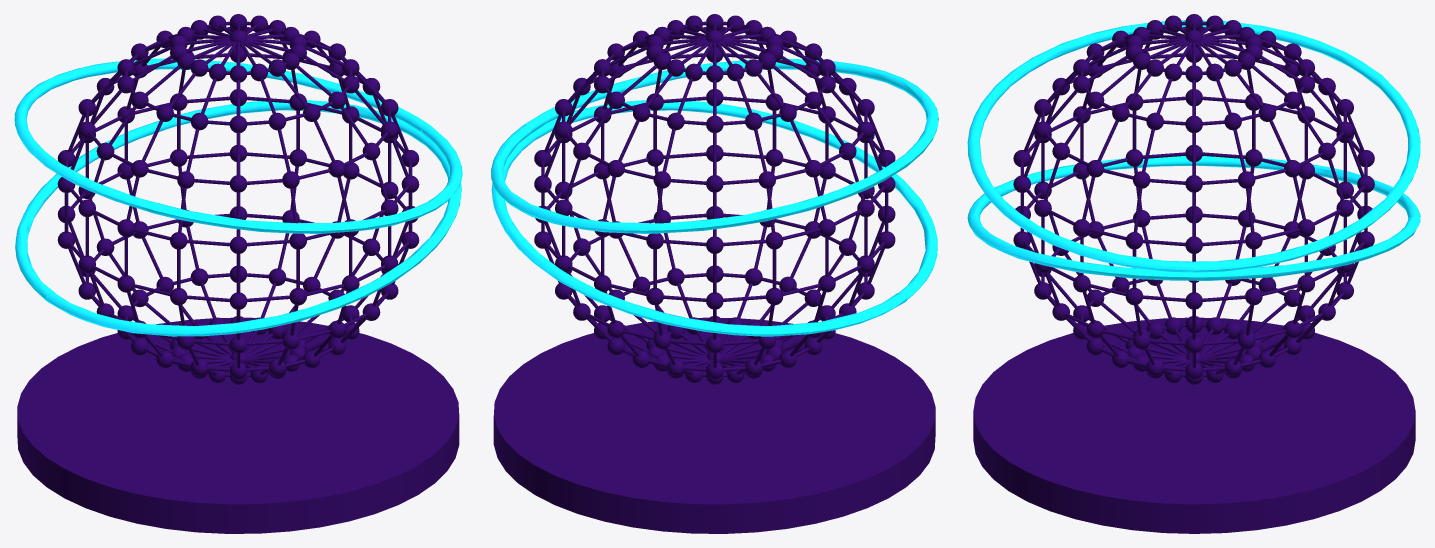
The model's file is 2-animated.glb.
The picture shows the model from 3 angles, left to right: view 1: azimuth 30°, elevation 25°; view 2: azimuth 150°, elevation 25°; view 3: azimuth 270°, elevation 25°; orthographic projection.
Visible parts, largest first — view 1: Cylinder002__0, Объект_Ноль.1, Null_1, Null_2; view 2: Cylinder002__0, Объект_Ноль.1, Null_1, Null_2; view 3: Cylinder002__0, Объект_Ноль.1, Null_2, Null_1.
Boxes of the visible parts, bbox=[...] form: Cylinder002__0: bbox=[17, 317, 459, 533]; Объект_Ноль.1: bbox=[57, 14, 419, 384]; Null_1: bbox=[15, 100, 461, 336]; Null_2: bbox=[14, 58, 462, 233]; Cylinder002__0: bbox=[493, 317, 935, 533]; Объект_Ноль.1: bbox=[534, 14, 895, 384]; Null_1: bbox=[491, 100, 937, 336]; Null_2: bbox=[491, 59, 938, 233]; Cylinder002__0: bbox=[973, 317, 1415, 533]; Объект_Ноль.1: bbox=[1013, 14, 1374, 384]; Null_2: bbox=[967, 20, 1420, 272]; Null_1: bbox=[967, 156, 1420, 280].
Size of the model in its own units: 1.28 by 1.3 by 1.3.
